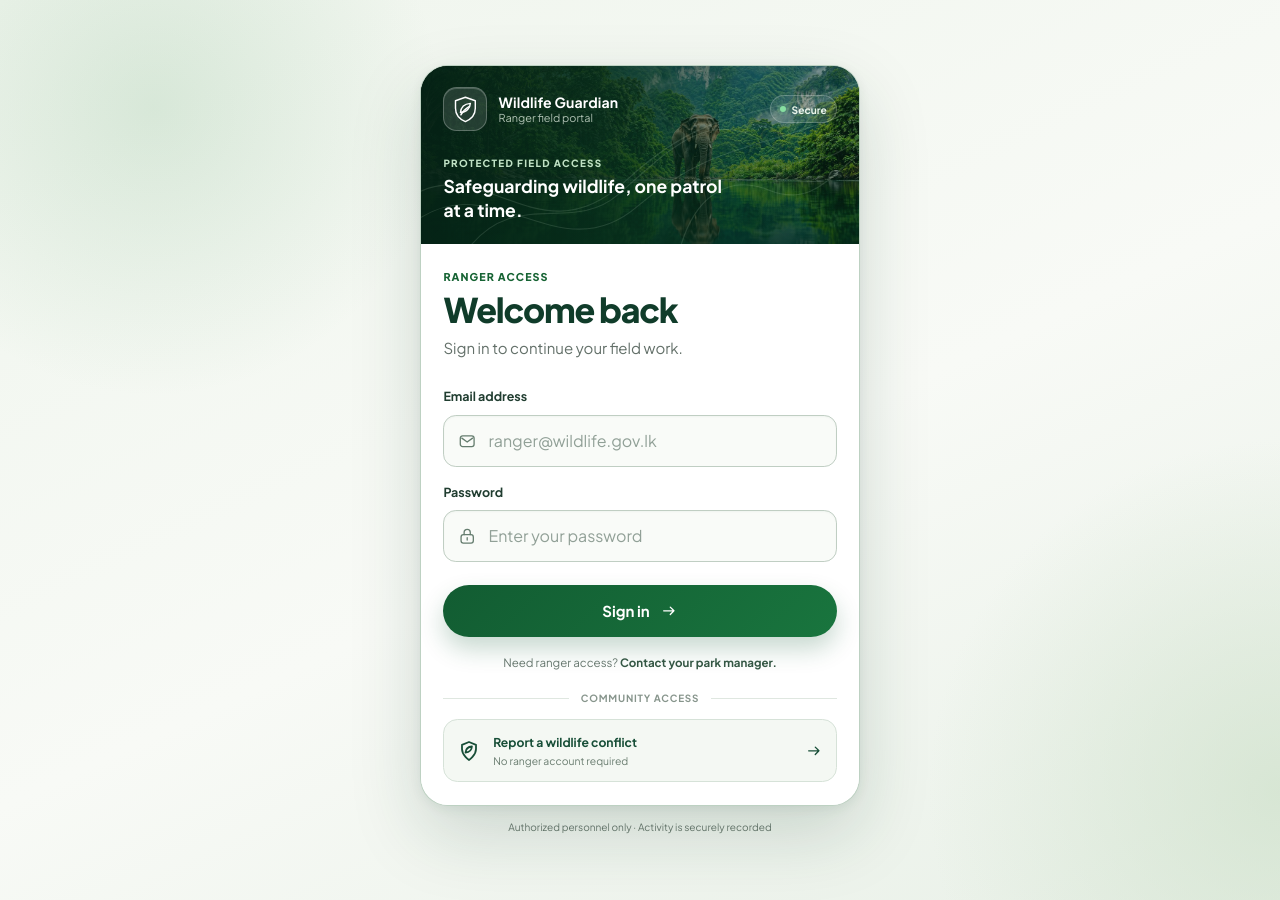
Scenario: Ranger account access › requires temporary-password replacement before opening the ranger account
This screenshot has width=1280, height=900.
Submit the form named "Ranger sign in", box [443,380,837,637]
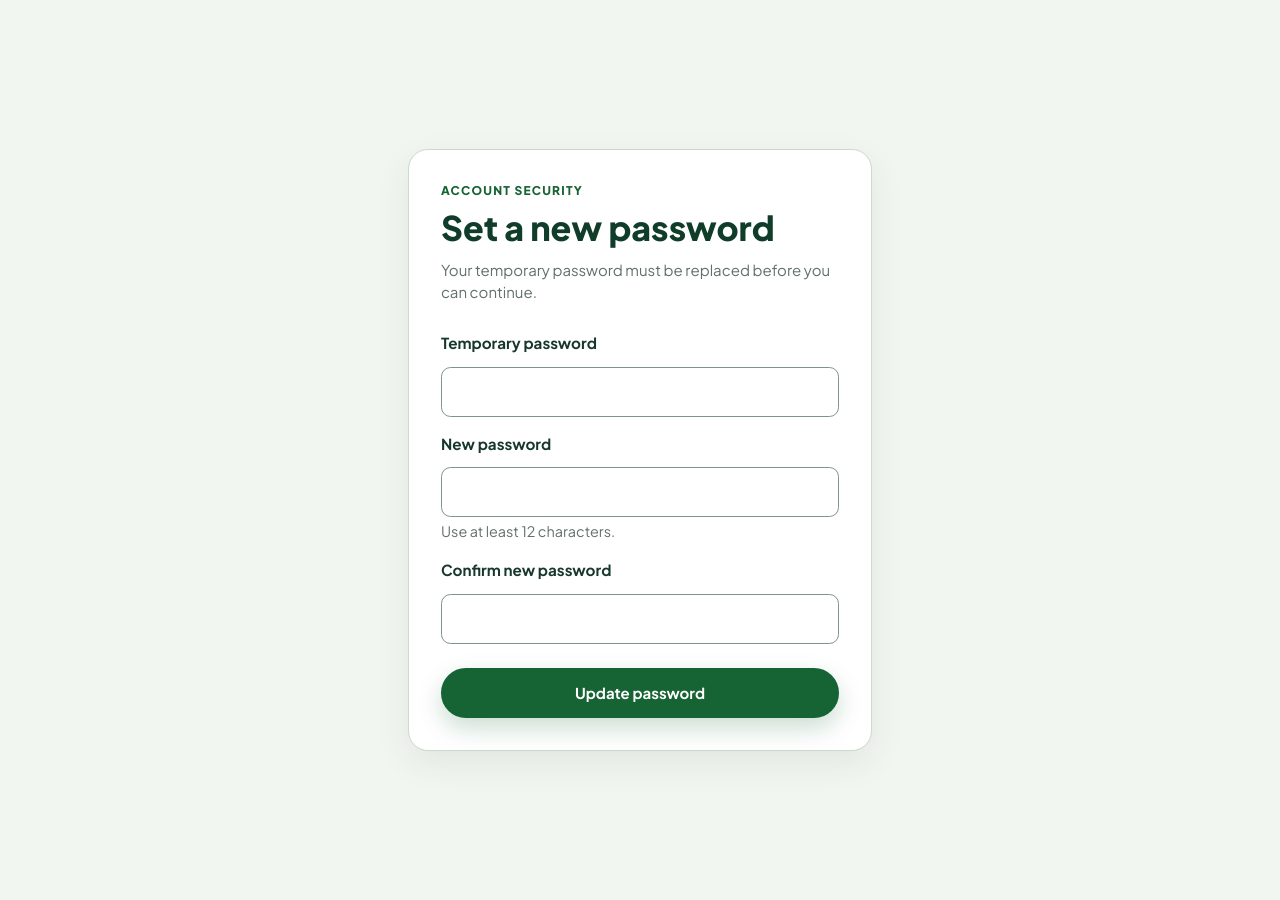
Now the heading "Set a new password" is shown, box [441,206,775,249]
Type "temporary-password" into the password field labelled "Temporary password".
click(640, 392); type("temporary-password")  # box [441,367,839,417]
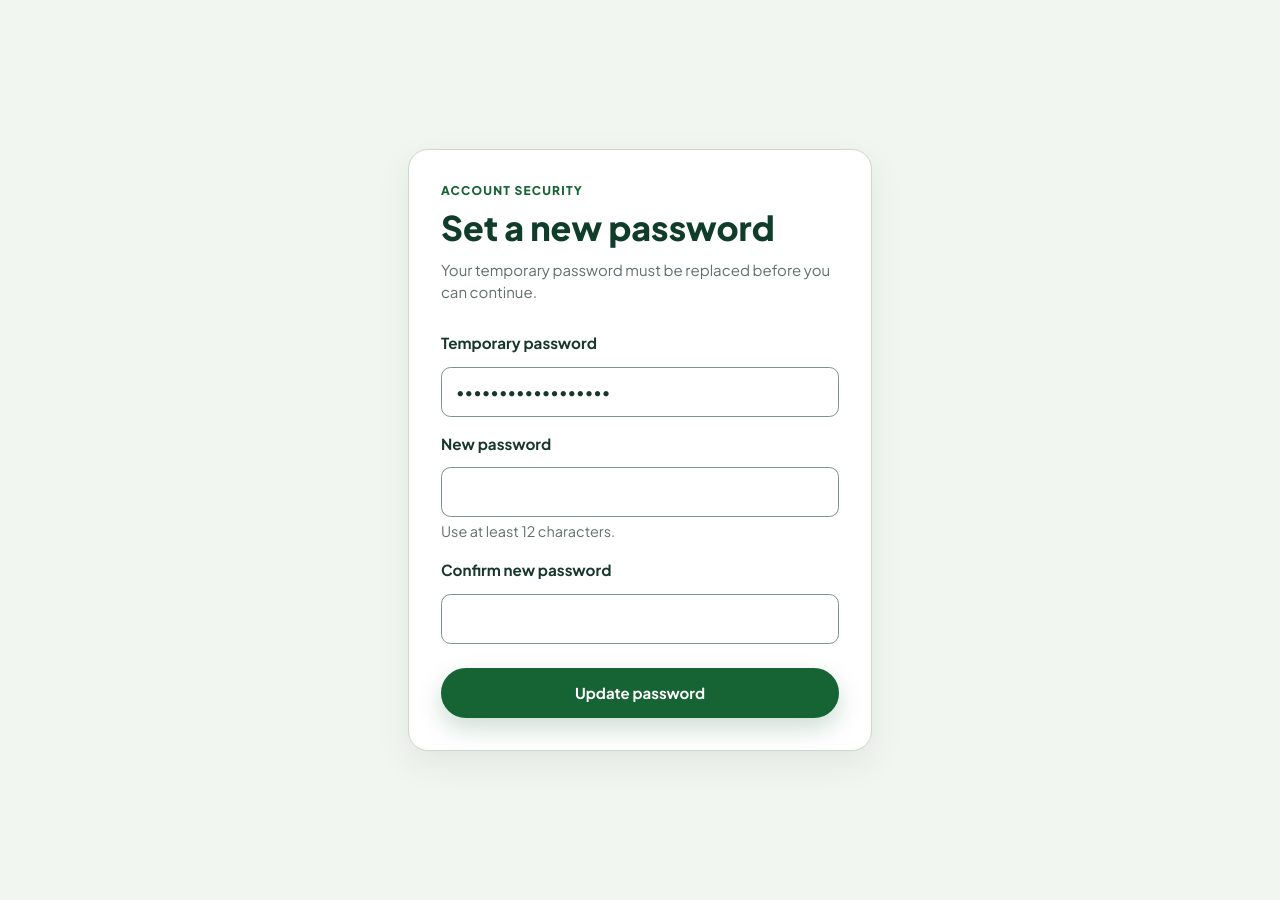
Type "new-secure-password" into the password field labelled "New password".
click(640, 492); type("new-secure-password")  # box [441,467,839,517]
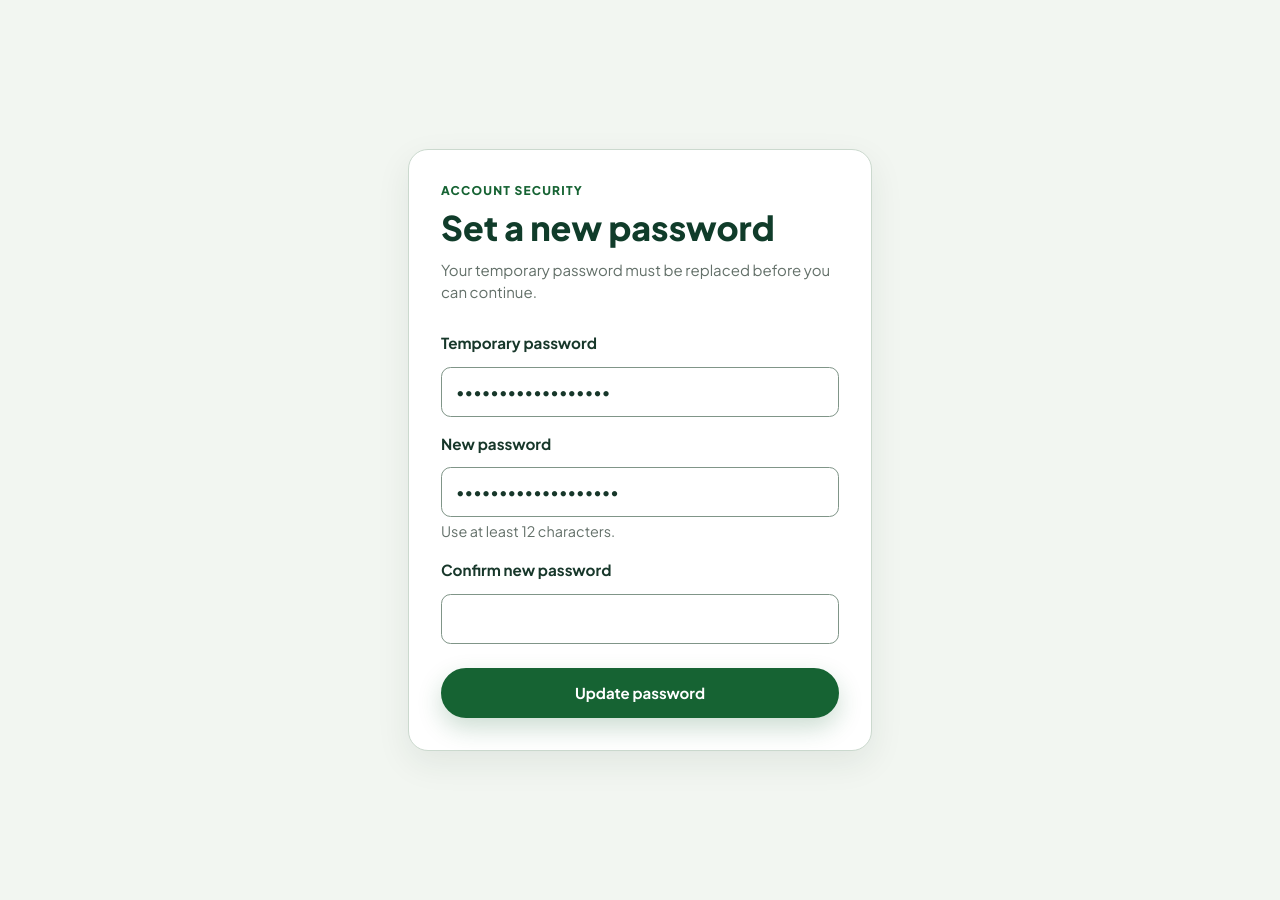
Type "new-secure-password" into the password field labelled "Confirm new password".
click(640, 619); type("new-secure-password")  # box [441,594,839,644]
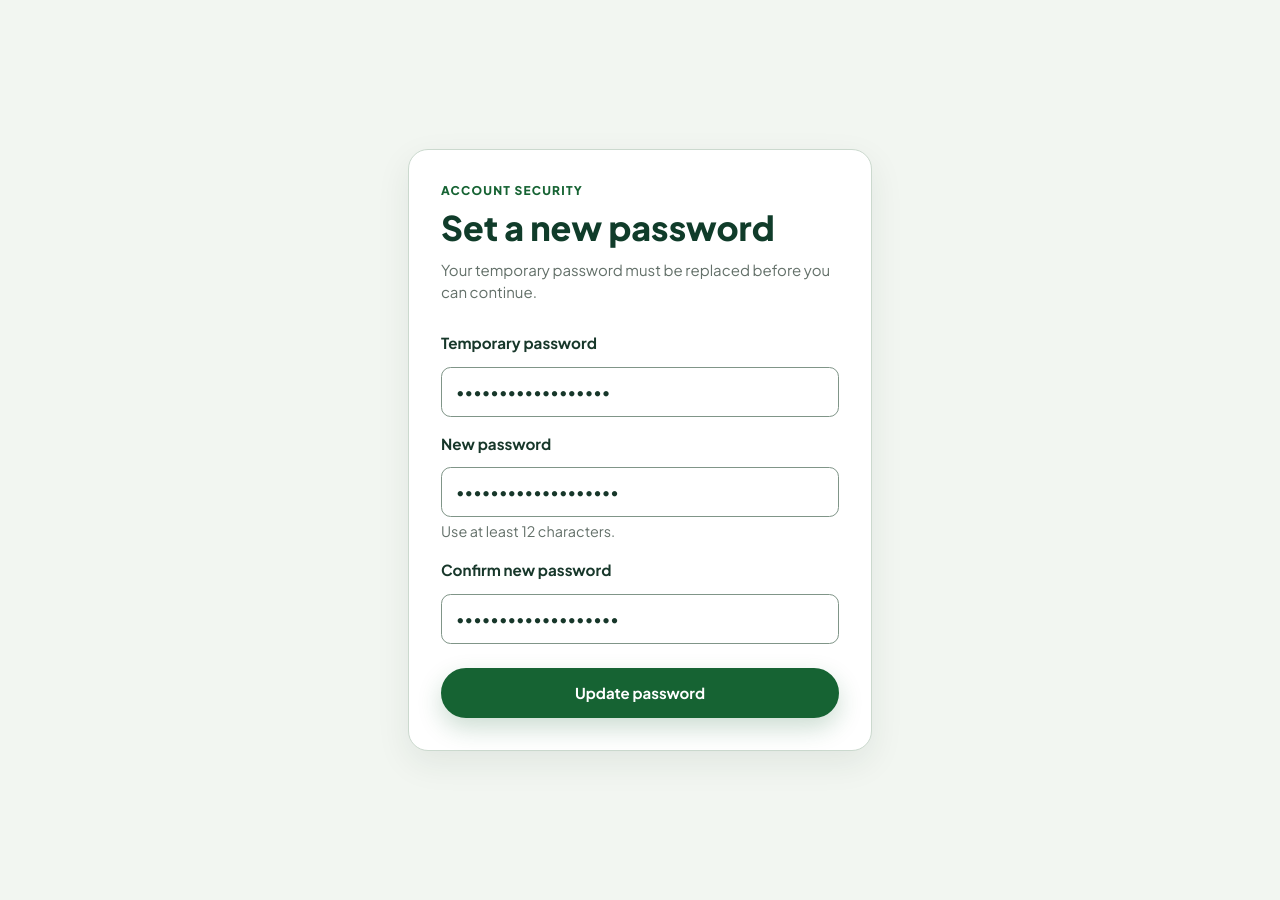
Submit the form named "Change temporary password", box [441,328,839,718]
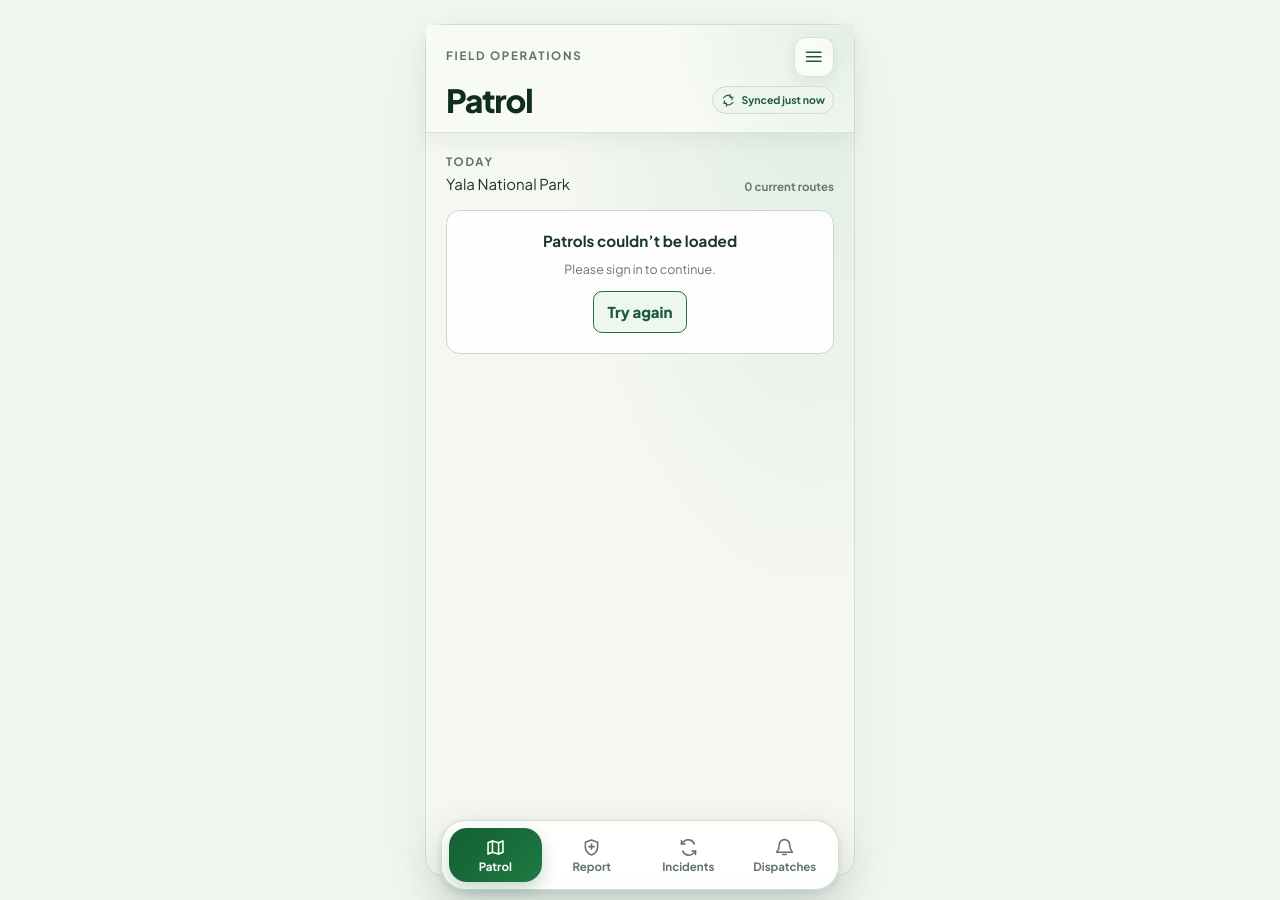
Now the heading "Patrol" is shown, box [446,83,532,118]
